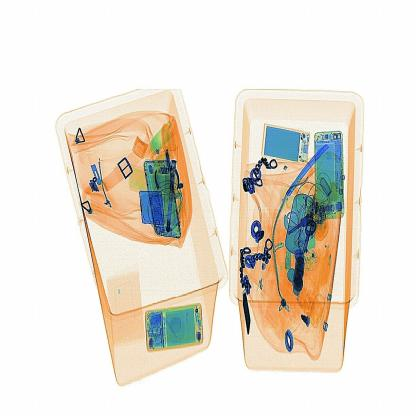pliers: (282, 138, 345, 202)
